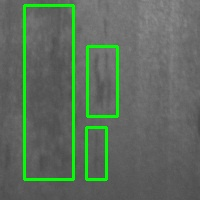inclusion: (24, 5, 73, 179), (87, 46, 117, 116), (86, 127, 106, 179)
